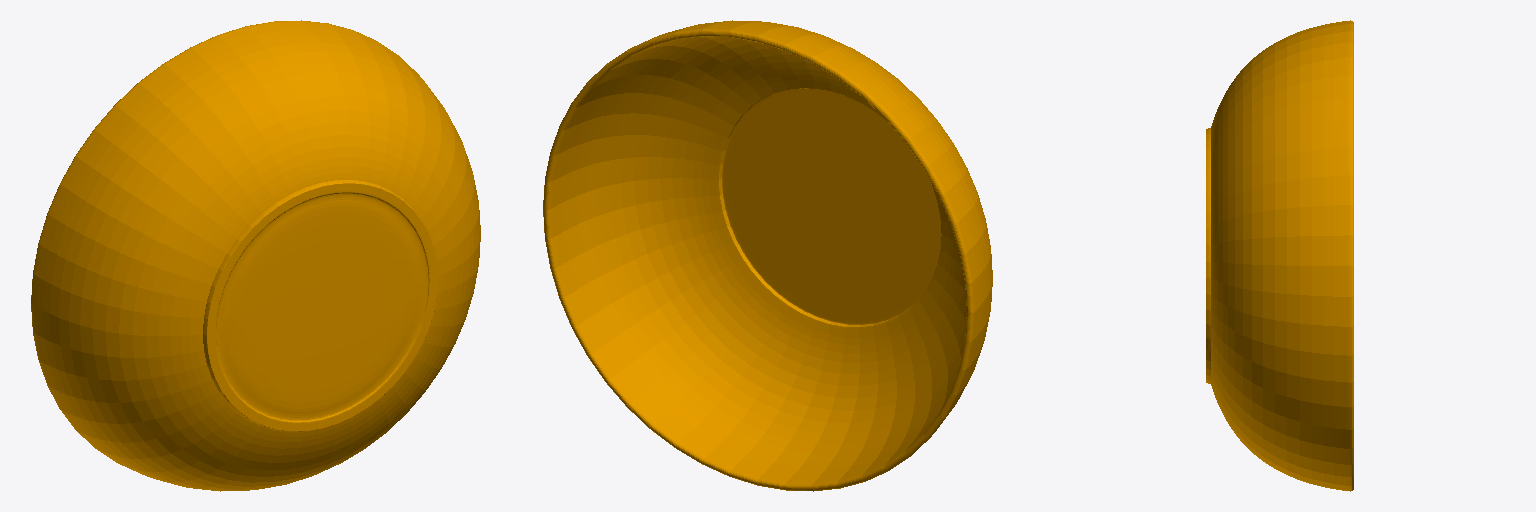
robot.urdf — bowl:
<?xml version="1.0"?>
    <robot name="bowl">
      <link name="base_link">
        <visual>
          <geometry>
            <mesh filename="bowl.obj" scale="1 1 1"/>
          </geometry>
        </visual>
        <collision>
          <geometry>
            <mesh filename="bowl_vhacd.obj" scale="1 1 1"/>
          </geometry>
        </collision>
        <inertial>
          <origin rpy="0 0 0" xyz="0.0009865565139830516 0.035730112598261074 0.0002714212898301645"/>
          <mass value="0.01601409912109375"/>
          <inertia ixx="0.00011749125511072068" ixy="-5.650924129288033e-07" ixz="-6.857844568220082e-07" iyy="0.00017448454988164912" iyz="-2.3197749585619055e-07" izz="0.00011751038695565856"/>
        </inertial>
      </link>
    </robot>

--- Render facts (derived) ---
The picture shows the robot from 3 angles, left to right: view 1: azimuth 30°, elevation 25°; view 2: azimuth 150°, elevation 25°; view 3: azimuth 270°, elevation 25°; orthographic projection.
Model bowl with 1 links and 0 joints (none), rooted at base_link, posed all joints at 0.
Visible links, largest first — view 1: base_link; view 2: base_link; view 3: base_link.
Link boxes in pixels (left/top/right/bottom): base_link: left=31, top=20, right=480, bottom=491; base_link: left=543, top=20, right=992, bottom=491; base_link: left=1206, top=20, right=1353, bottom=491.
Size in the robot's own frame: 0.254 by 0.0799 by 0.254 metres.
1 mesh visuals loaded from 1 distinct referenced files (1 OBJ).